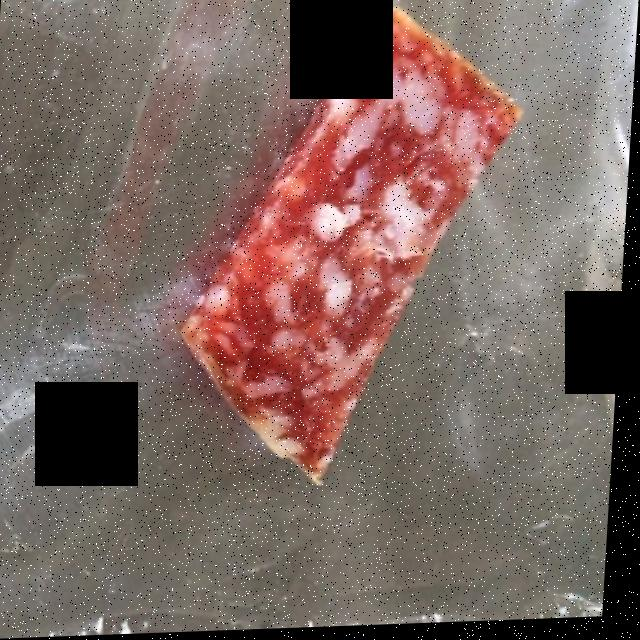salami: (197, 20, 512, 476)
